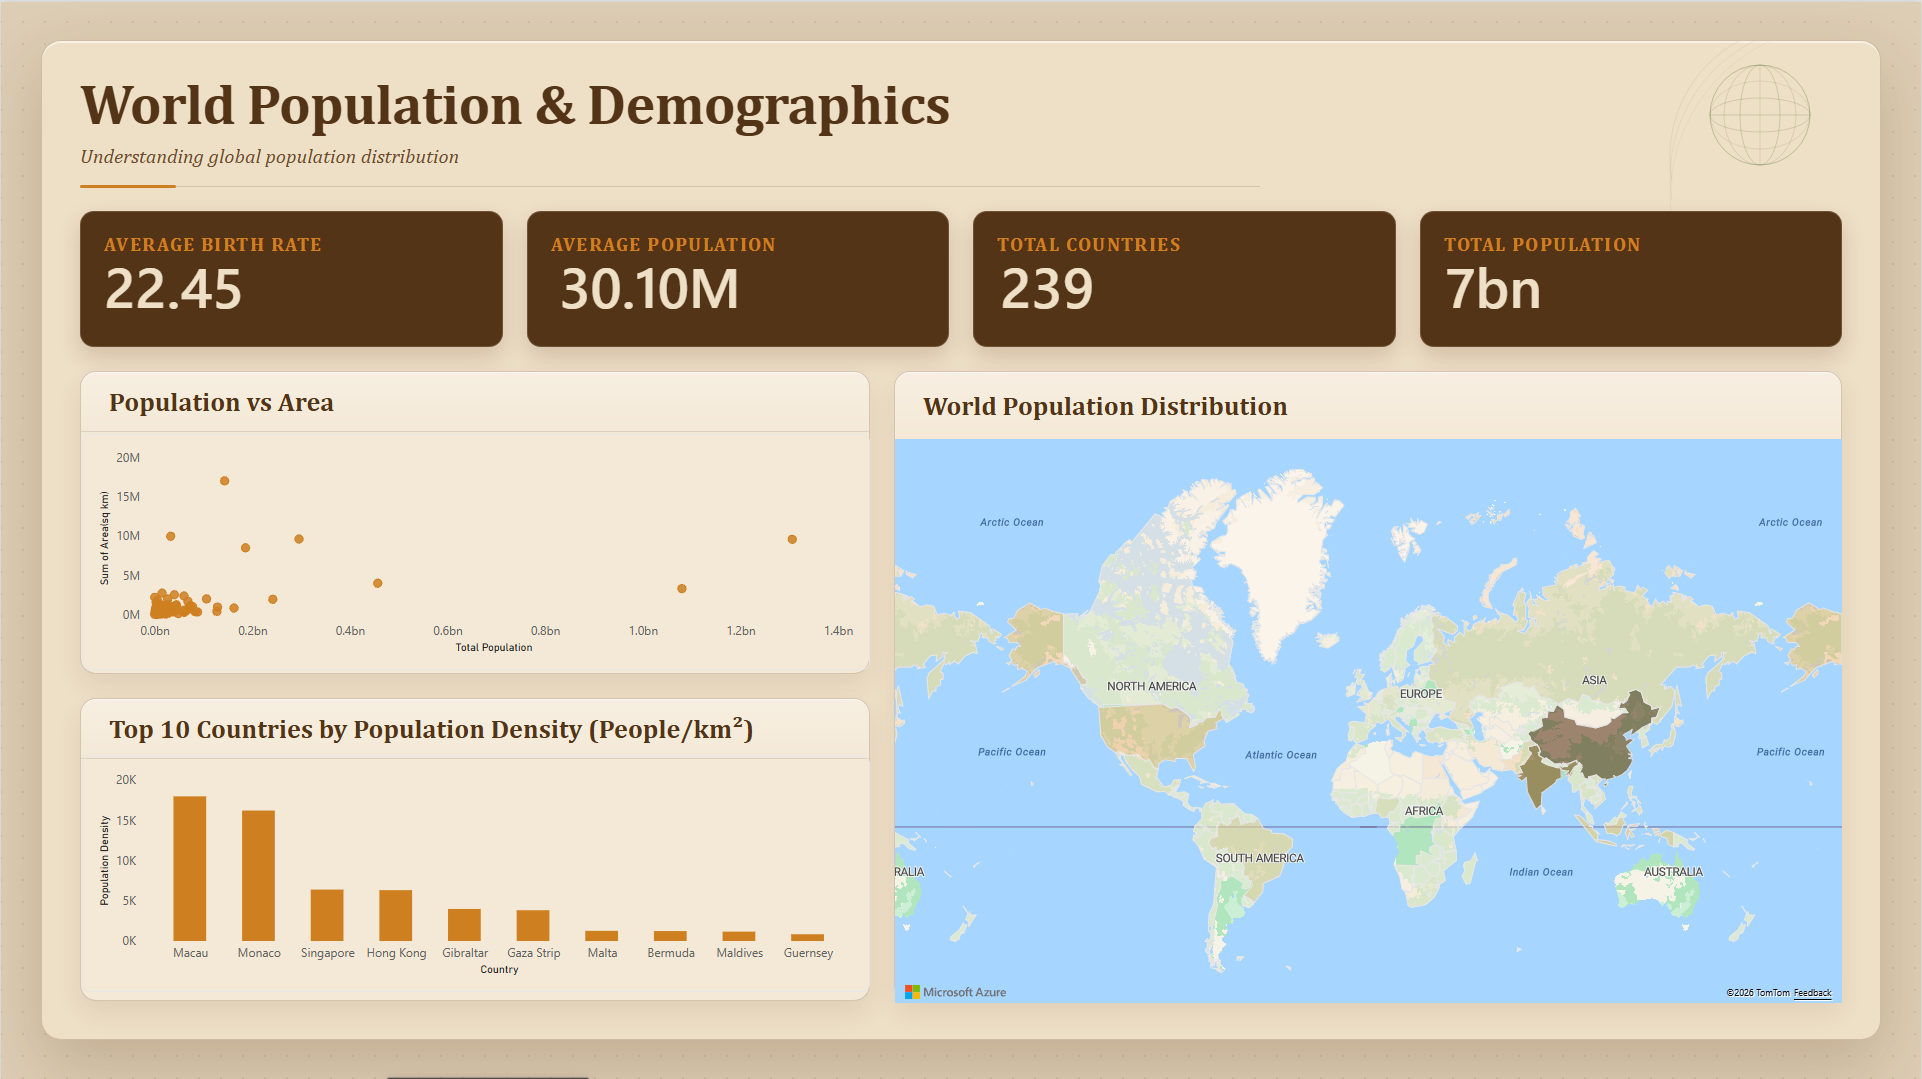

Layout of this report page (visuals, bound fields, positions):
{"tool":"powerbi","page":{"name":"World Population & Demographics","canvas":[1920,1080],"ordinal":2},"visuals":[{"type":"cardVisual","fields":{"Data":["_Measures.Total Population"]},"box":[1429,226,266,114],"z":0},{"type":"cardVisual","fields":{"Data":["_Measures.Average Population"]},"box":[543,226,266,114],"z":1000},{"type":"cardVisual","fields":{"Data":["_Measures.Average Birth Rate"]},"box":[88,226,266,114],"z":2000},{"type":"cardVisual","fields":{"Data":["CountNonNull(Country Data Comparison.Country)"]},"box":[984,226,266,114],"z":3000},{"type":"azureMap","fields":{"Category":["Country Data Comparison.Country"]},"box":[878,423,979,594],"z":4000},{"type":"scatterChart","fields":{"Category":["Country Data Comparison.Country"],"X":["_Measures.Total Population"],"Y":["Sum(Country Data Comparison.Area(sq km))"]},"box":[81,432,788,236],"z":5000},{"type":"clusteredColumnChart","fields":{"Category":["Country Data Comparison.Country"],"Y":["_Measures.Population Density"]},"box":[81,754,788,236],"z":6000}]}

Visuals, with their boxes in screenshot pixels (x1, y1, x2, y2), scaled from the page's 1920x1080 canvas onto the 1922x1079 screenshot:
cardVisual - _Measures.Total Population: [left=1430, top=226, right=1697, bottom=340]
cardVisual - _Measures.Average Population: [left=544, top=226, right=810, bottom=340]
cardVisual - _Measures.Average Birth Rate: [left=88, top=226, right=354, bottom=340]
cardVisual - CountNonNull(Country Data Comparison.Country): [left=985, top=226, right=1251, bottom=340]
azureMap - Country Data Comparison.Country: [left=879, top=423, right=1859, bottom=1016]
scatterChart - Country Data Comparison.Country x _Measures.Total Population: [left=81, top=432, right=870, bottom=667]
clusteredColumnChart - Country Data Comparison.Country x _Measures.Population Density: [left=81, top=753, right=870, bottom=989]
